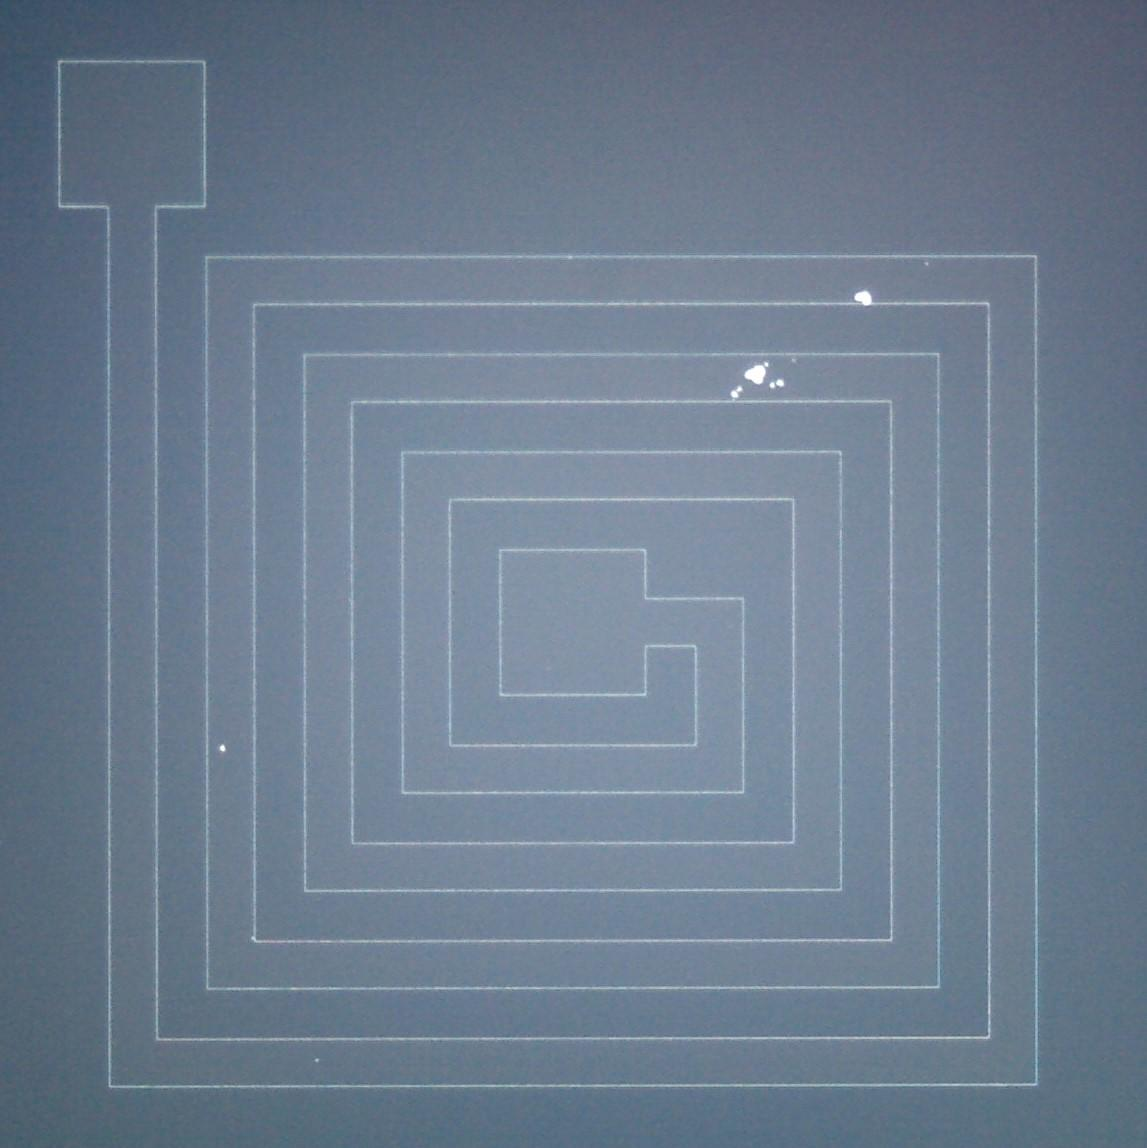B_point: (737, 361, 772, 389), (849, 285, 880, 312), (210, 735, 234, 760), (771, 373, 793, 393), (725, 381, 746, 401), (765, 378, 779, 394)
s_point: (308, 1051, 326, 1069), (917, 256, 935, 274), (786, 353, 804, 369), (562, 248, 578, 266), (759, 357, 773, 371)
